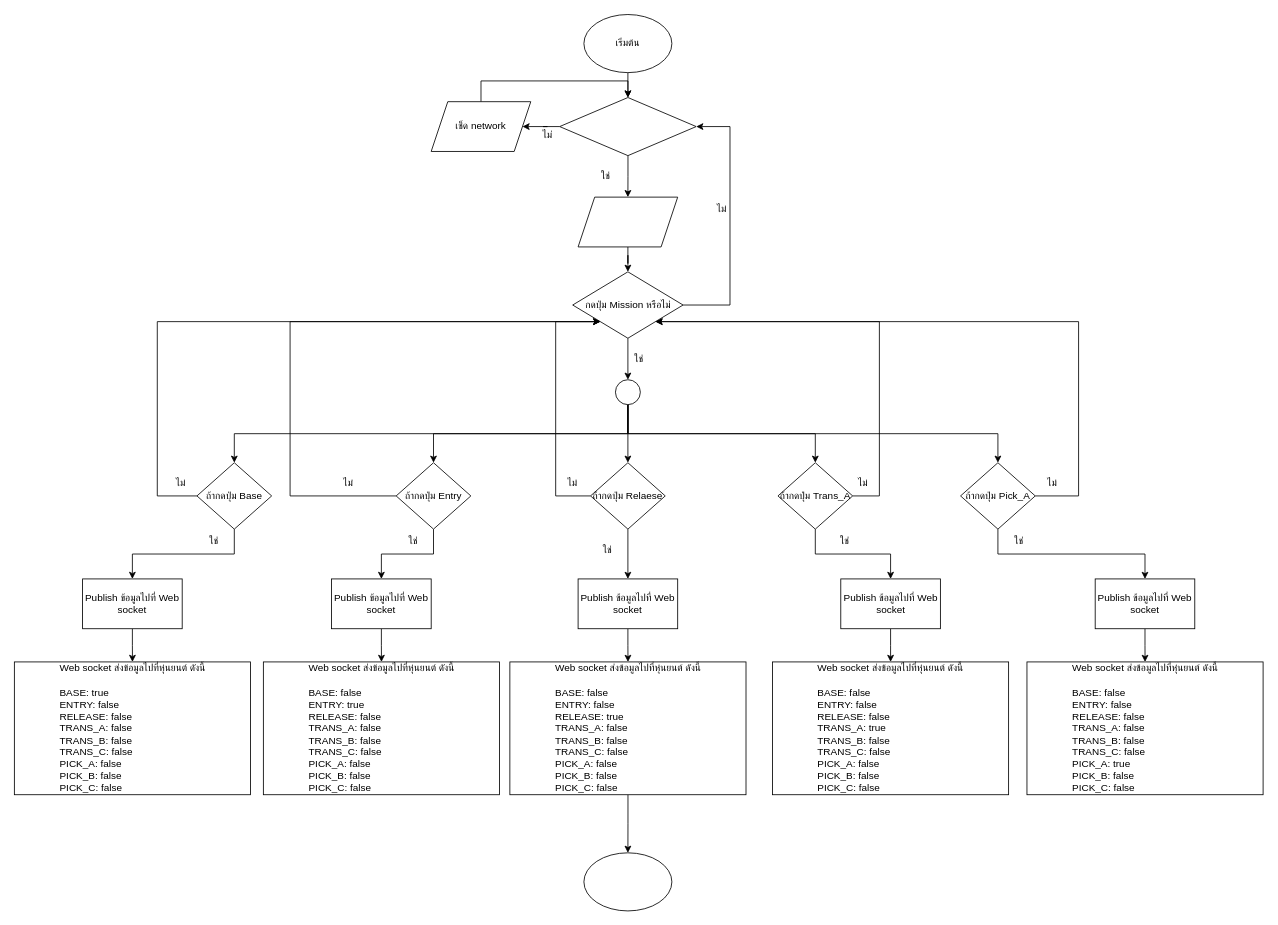
The diagram is 1278 pixels wide and 925 high, and some of its shapes have lost their labels. The shapes that lost their labels are listed below. From the top down, each one's centre as x and y in pixels, then its label:
the point at 627,126: ตรวจสอบว่าเชื่อมต่อกับหุ่นยนต์
the point at 627,221: เชื่อมต่อแล้ว
the point at 627,881: จบการทำงาน
